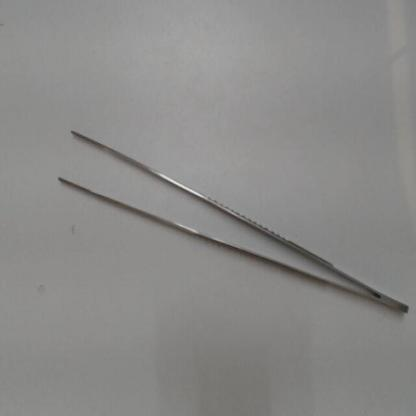DeBakey Dissector: (50, 106, 412, 331)
